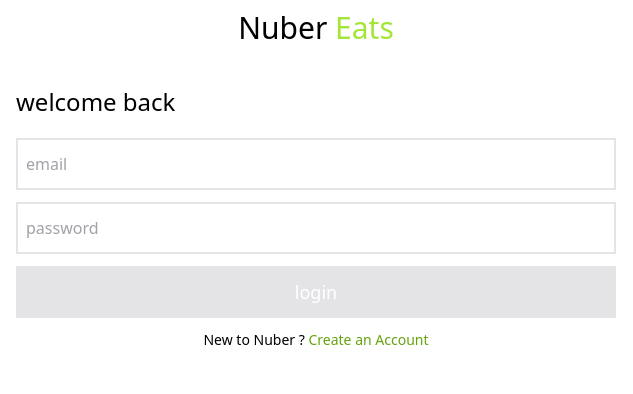
Test case: <Login /> › display email validation error
Type "ttt@ttt.com" into the field with placeholder "email". click: {"x": 316, "y": 164}
box: [16, 138, 616, 190]
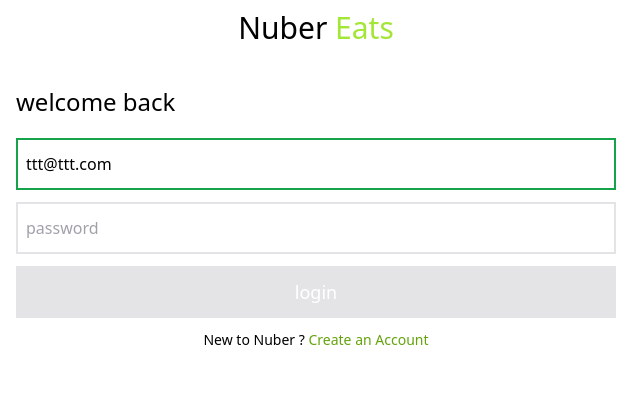
Clear the field with placeholder "email". click: {"x": 316, "y": 164}
box: [16, 138, 616, 190]
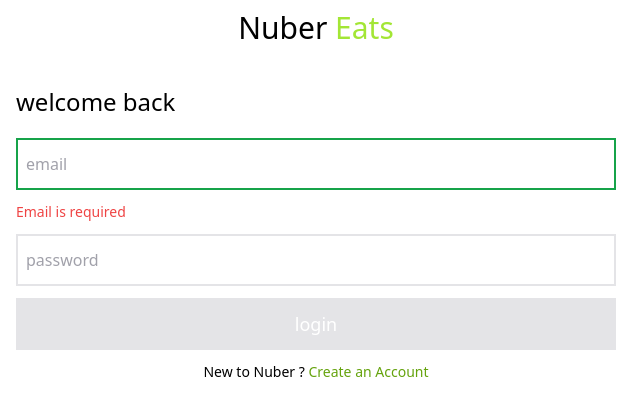
Result: the message reads "Email is required" at [16, 202, 126, 221]
